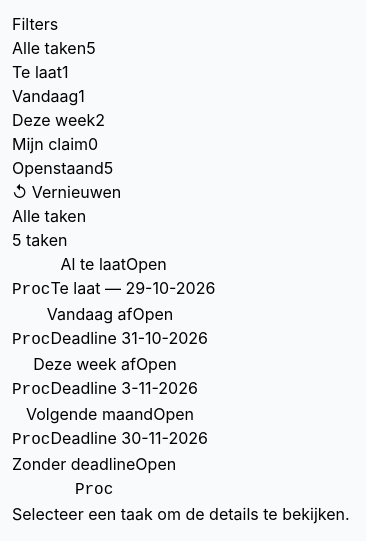
Scenario: TakenInbox deadline filters › "Te laat" holds only tasks whose deadline has passed
The image size is (366, 541).
Expected: the text "Al te laat" is shown, left=61, top=254, right=126, bottom=274
Click the button "Te laat1" at [40, 72], box left=12, top=60, right=68, bottom=84
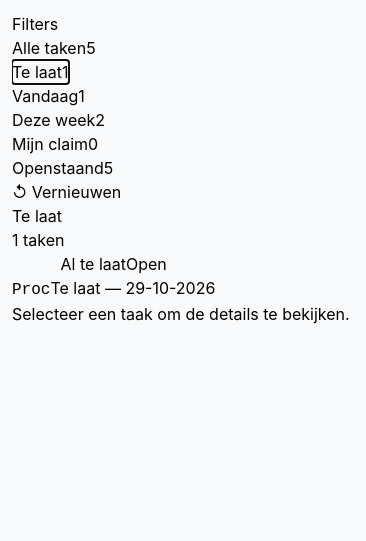
Expected: the button "Deze week af" is gone
Expected: the button "Volgende maand" is gone
Expected: the button "Zonder deadline" is gone
